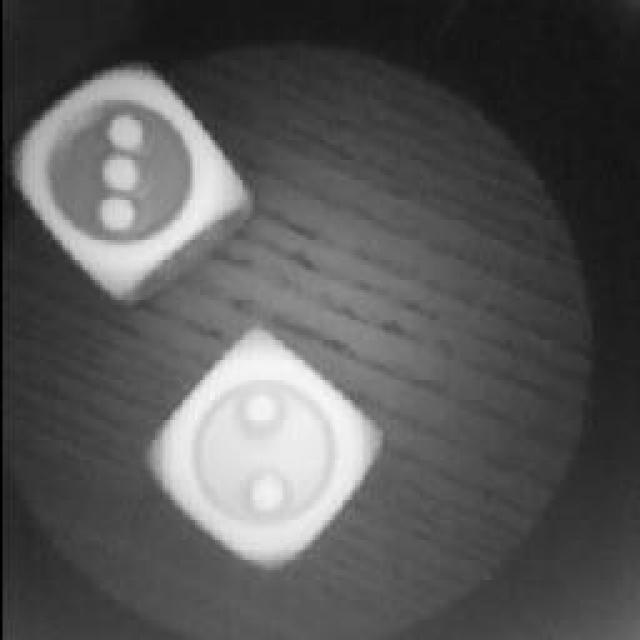dice_2: (148, 335, 382, 570)
dice_3: (12, 48, 248, 298)
